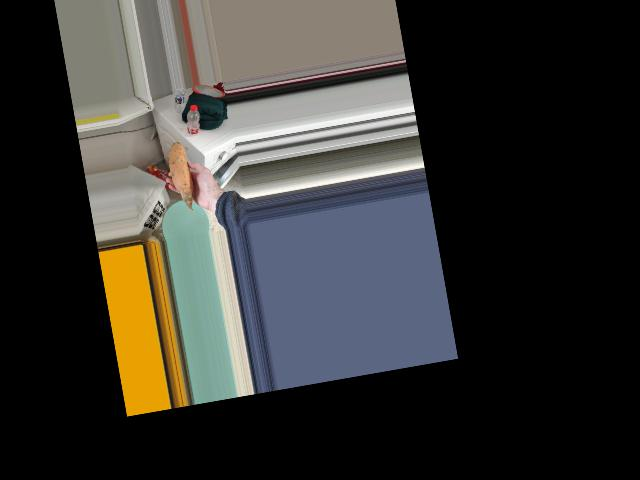sweet_potato: (165, 134, 198, 198)
